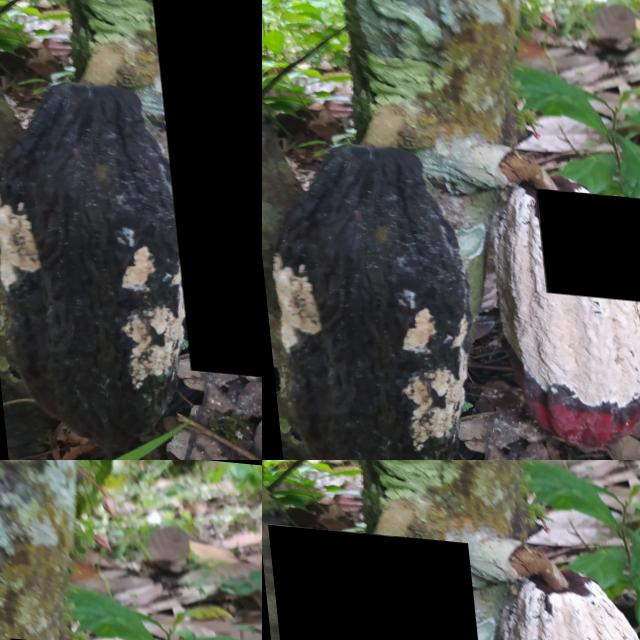Fitoftora: (530, 182, 640, 306)
Monilia: (262, 523, 493, 640), (552, 314, 640, 460), (485, 558, 640, 640)
Sana: (262, 88, 424, 375), (148, 0, 262, 385), (416, 184, 541, 435), (488, 284, 614, 460)
